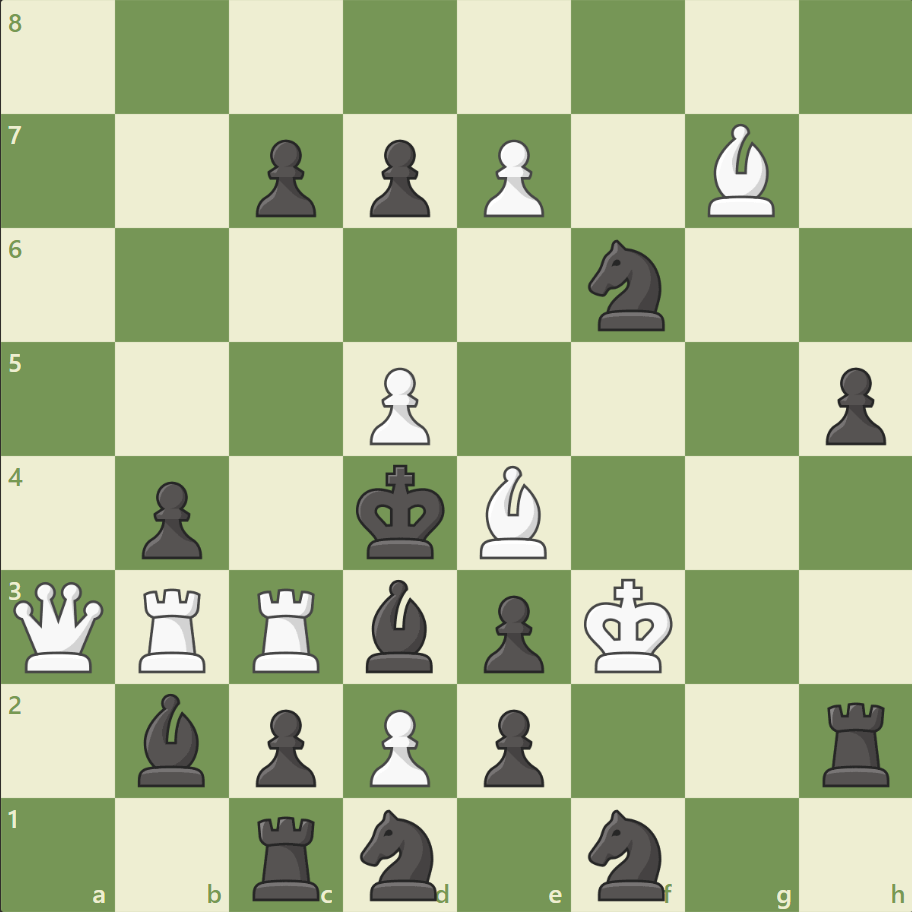B: (471, 460, 555, 563), (698, 120, 782, 222)
K: (579, 571, 679, 679)
P: (474, 132, 549, 223), (361, 359, 435, 450), (361, 700, 435, 791)
Q: (10, 576, 109, 676)
R: (246, 579, 329, 676), (133, 579, 215, 676)
b: (131, 687, 215, 790), (358, 574, 442, 676)
k: (351, 458, 451, 566)
n: (351, 802, 449, 904), (579, 234, 676, 337), (579, 802, 676, 904)
p: (247, 132, 322, 223), (133, 473, 208, 564), (474, 586, 549, 677), (247, 700, 322, 791), (474, 700, 549, 791), (361, 132, 435, 223), (815, 359, 889, 450)
r: (246, 806, 329, 904), (814, 693, 897, 790)
